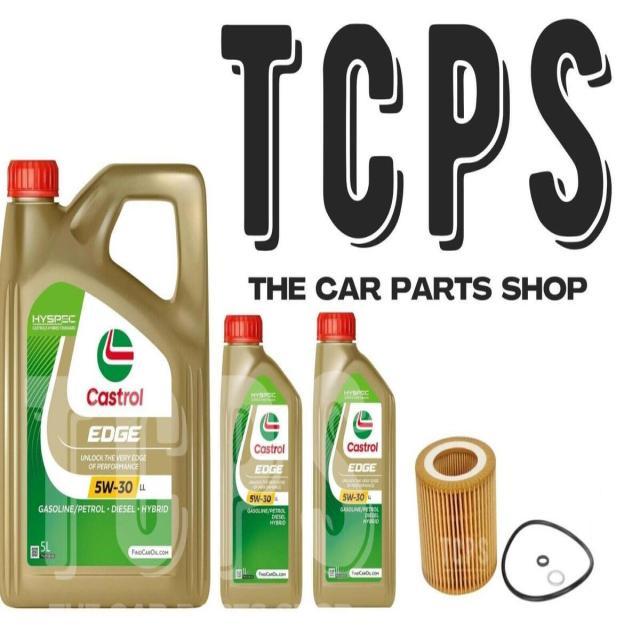motor_oil: (3, 150, 213, 617), (311, 307, 401, 619), (221, 306, 305, 618)
oil_filter: (415, 422, 501, 598)
